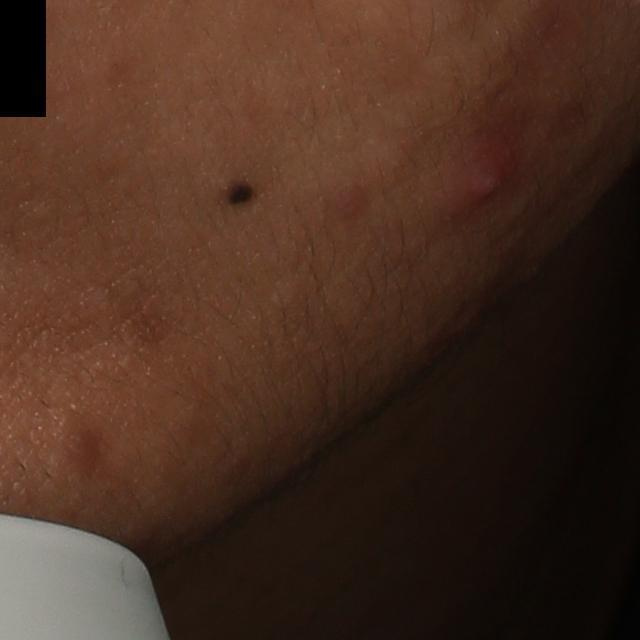nevus: (218, 171, 255, 211)
pustule: (447, 136, 511, 205)
